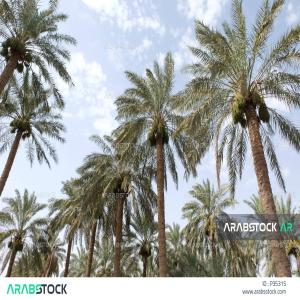palm tree: (172, 0, 300, 277), (111, 49, 202, 276), (0, 0, 78, 197), (72, 132, 158, 276), (180, 177, 240, 277), (0, 187, 48, 277), (129, 205, 159, 277)
